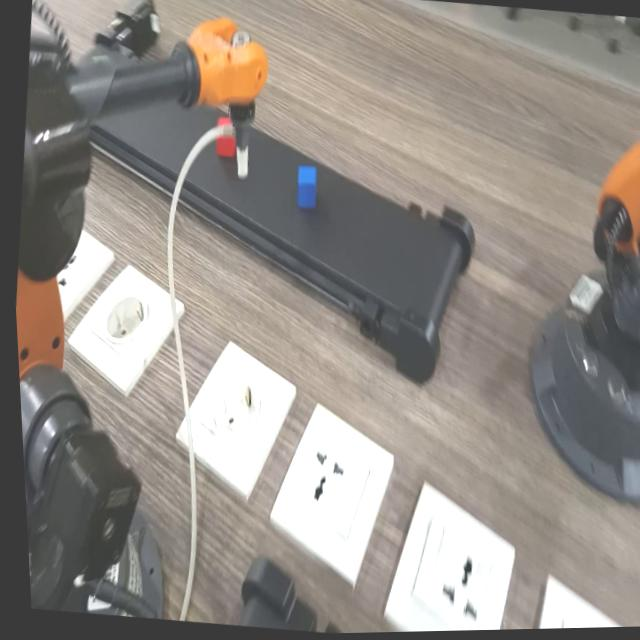cube: (284, 157, 321, 217), (209, 113, 238, 163)
